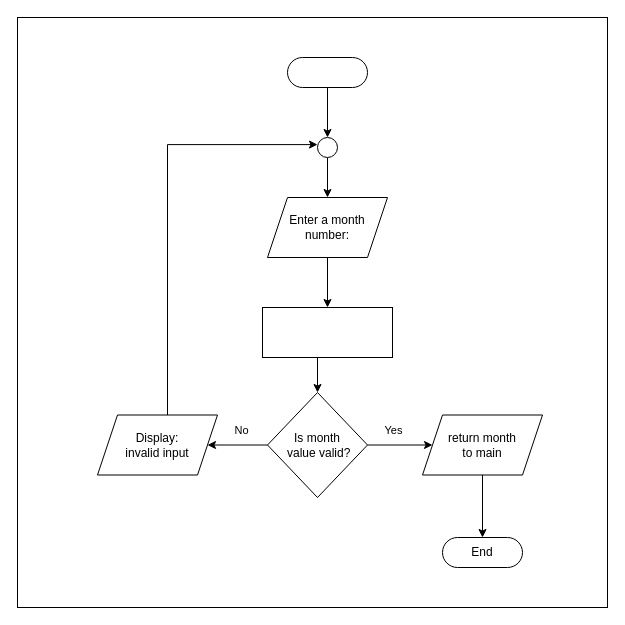
Image size: 625x625. Some labels were removed from this diagram. Here are the shapes that lost their labels. From the top down, the centre of each, then its label:
pixel 327 72: Start
pixel 327 332: check if month is valid call is_month_valid function
